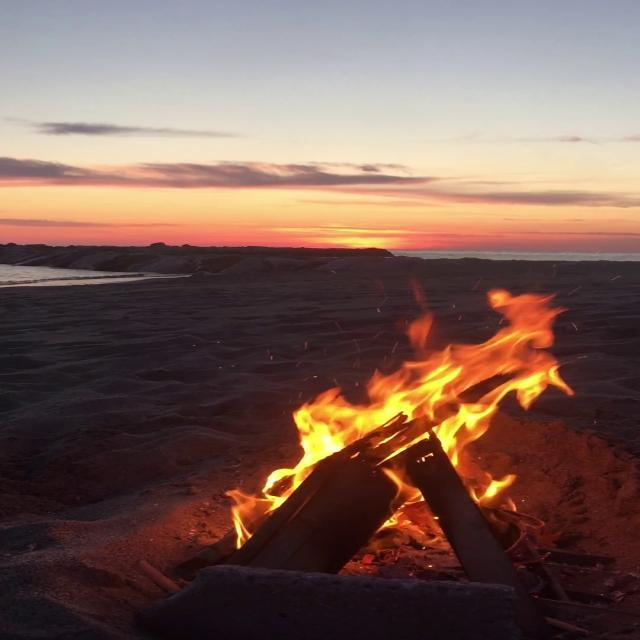Fire: (229, 283, 590, 546)
